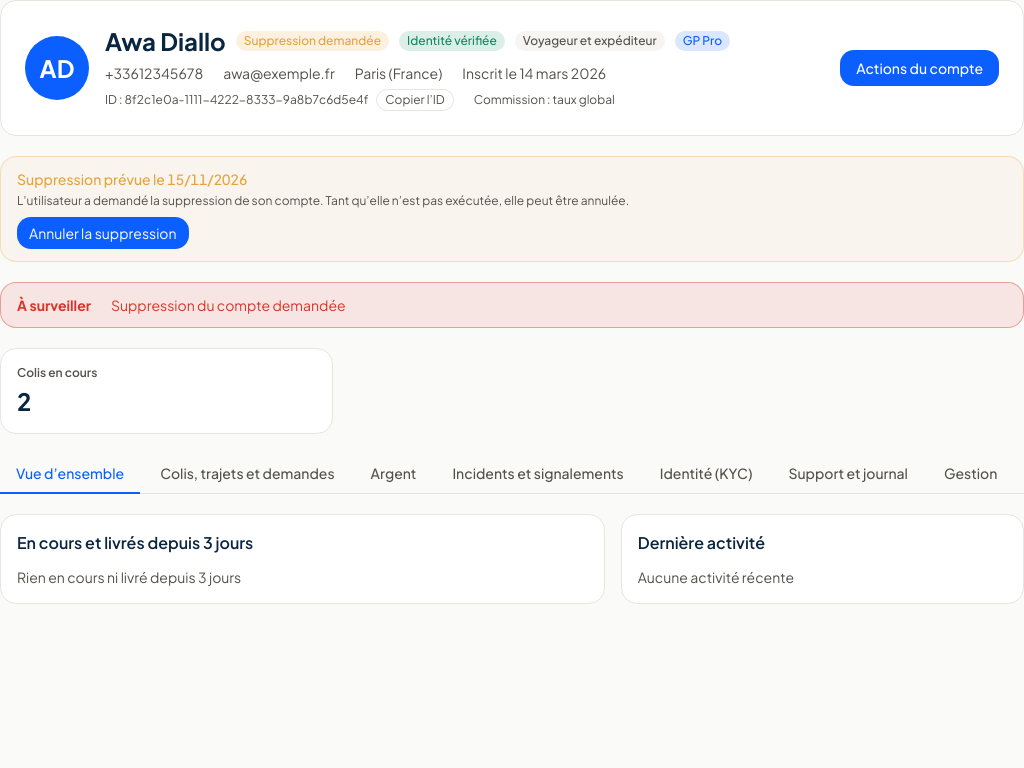
Test case: users/[id].vue › bandeaux d’en-tête › 422 : le dialogue reste ouvert avec le message
The width and height of the screenshot is (1024, 768).
Click the button with test id "action-cancel-deletion": (103, 233) [17, 217, 188, 249]
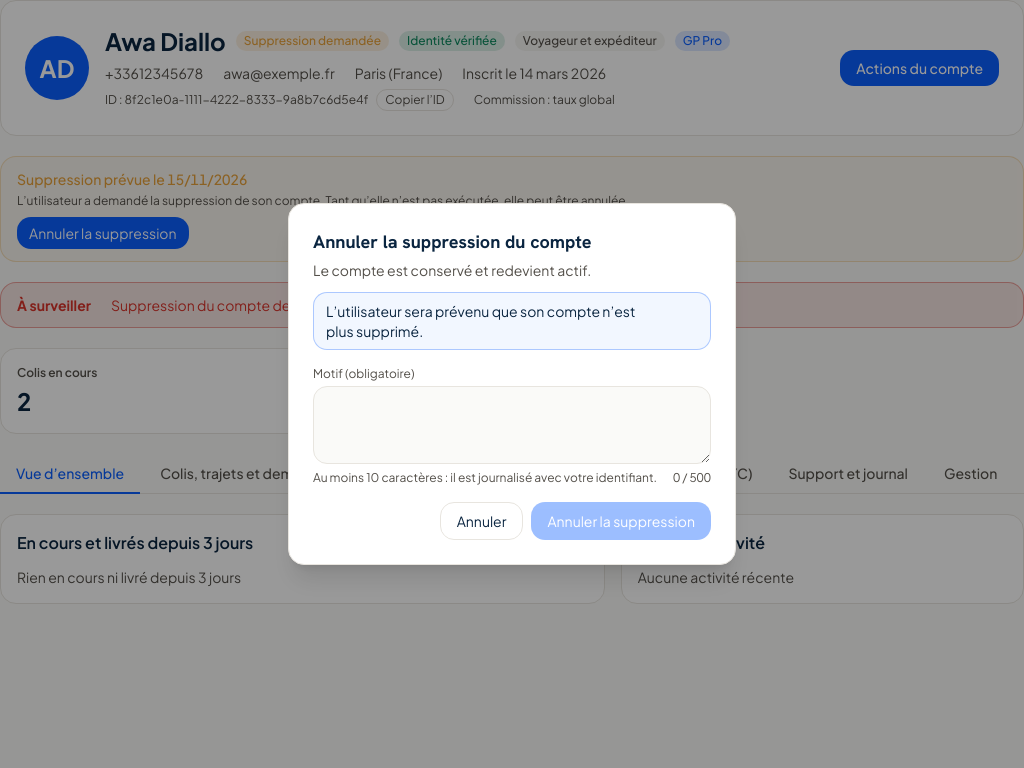
In the text box with test id "restore-reason": (512, 425) [313, 386, 711, 464], type "Demande confirmée par téléphone"
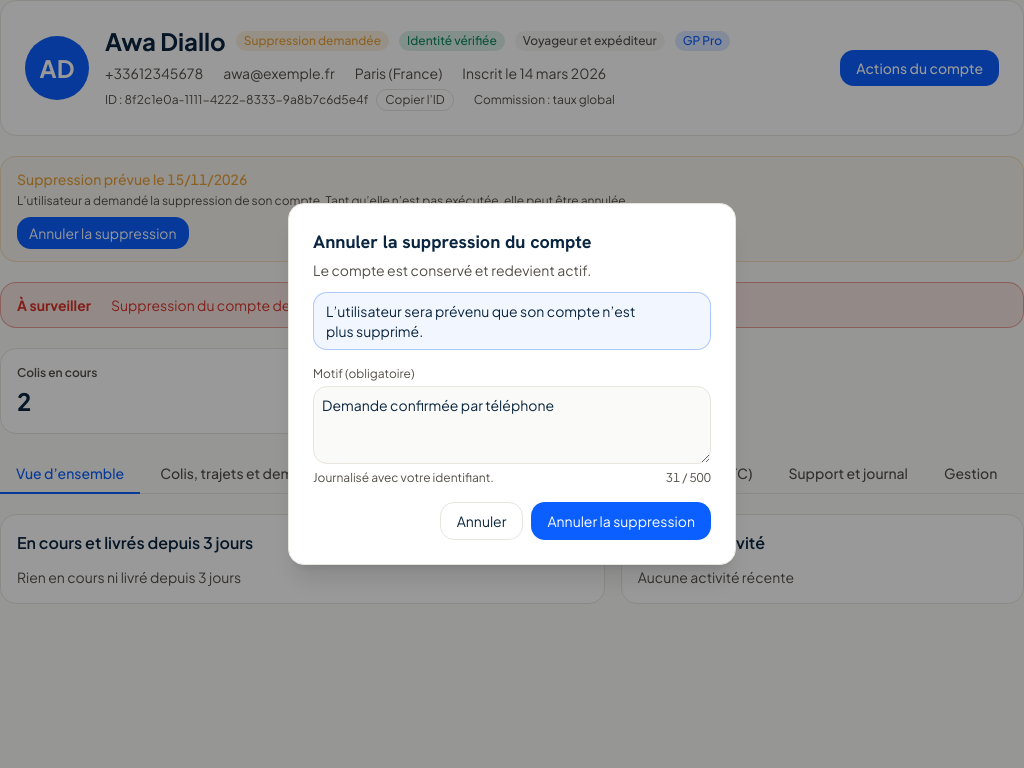
Click the button with test id "restore-confirm": (621, 521) [532, 502, 711, 540]
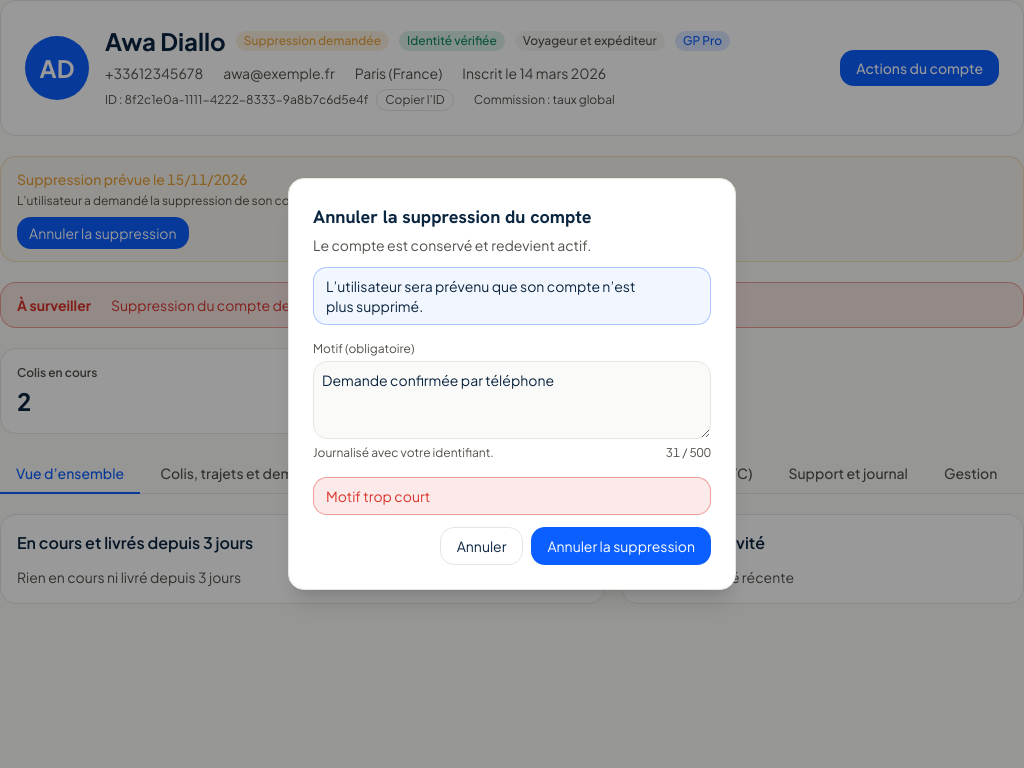
Check: the message with test id "restore-error" reads "Motif trop court", box [326, 487, 430, 505]
